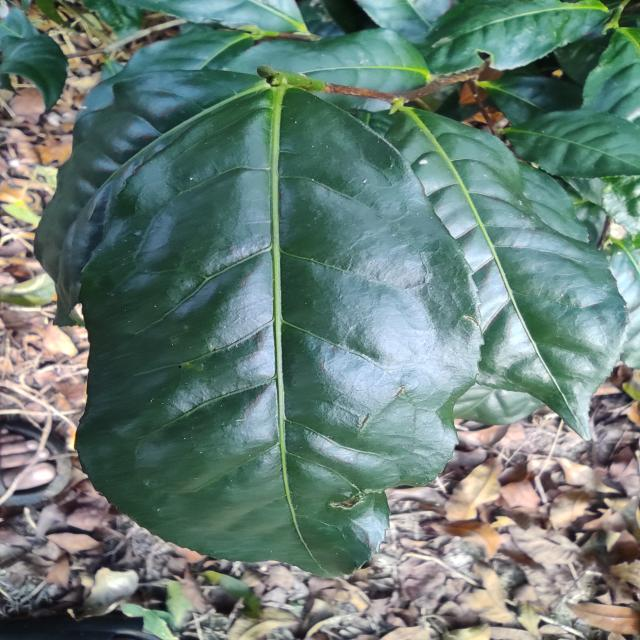Category D(7+ days, Not for Tea): (36, 69, 504, 584)
